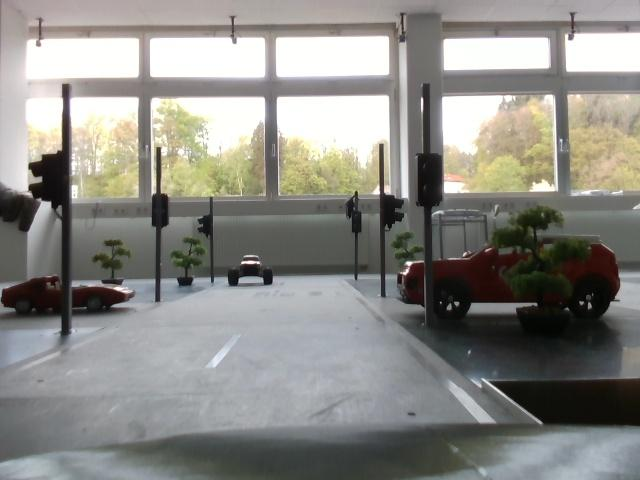car: (400, 231, 627, 323), (6, 272, 142, 327), (227, 246, 280, 296)
potted plant: (500, 205, 581, 337), (170, 233, 206, 291), (96, 235, 133, 285), (394, 228, 422, 272)
traffic light: (31, 155, 73, 211), (415, 153, 449, 209), (376, 190, 404, 231), (199, 216, 215, 241), (353, 212, 363, 237)
